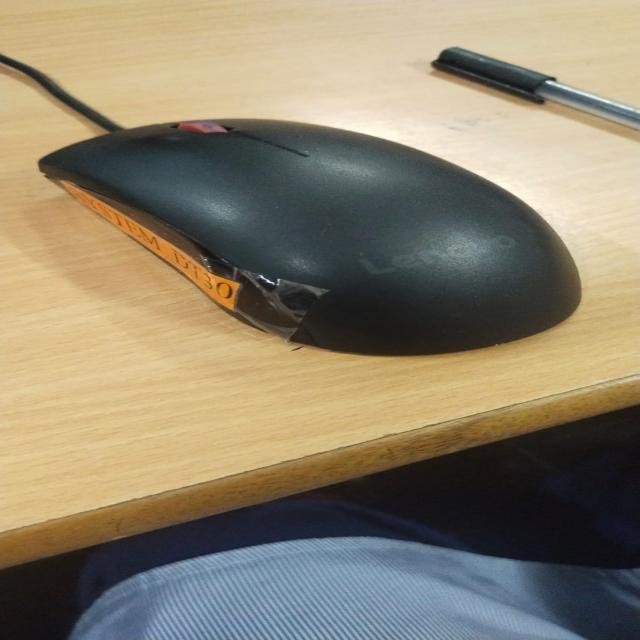Mouse: (76, 108, 640, 377), (426, 53, 640, 149), (108, 78, 116, 104)
